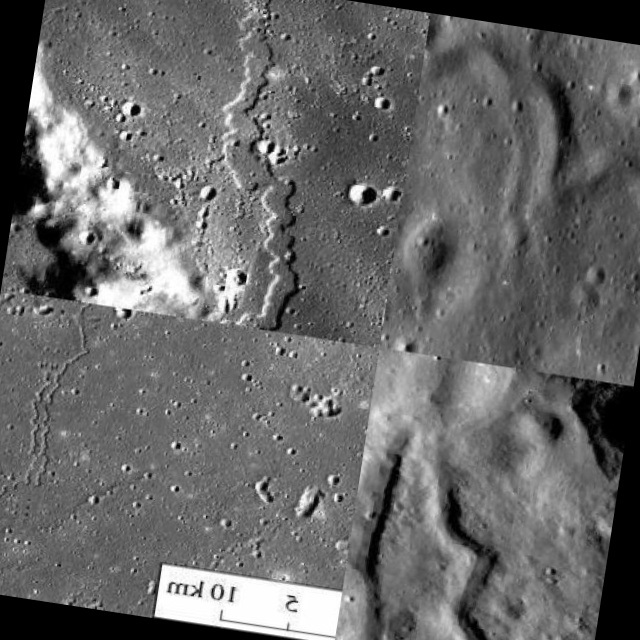crater: (128, 0, 297, 337), (59, 338, 332, 531), (383, 3, 639, 174), (425, 398, 603, 638), (383, 338, 454, 630), (0, 414, 63, 632)
